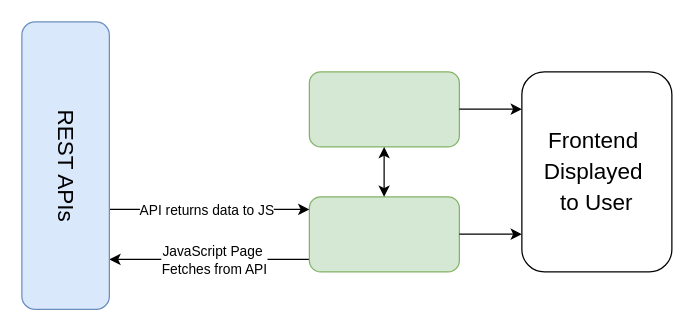
The diagram is 694 pixels wide and 331 high, and some of its shapes have lost their labels. Each missing label, with the centre of its shape:
"HTML + CSS" goes at (383,109).
"JavaScript" goes at (383,234).
